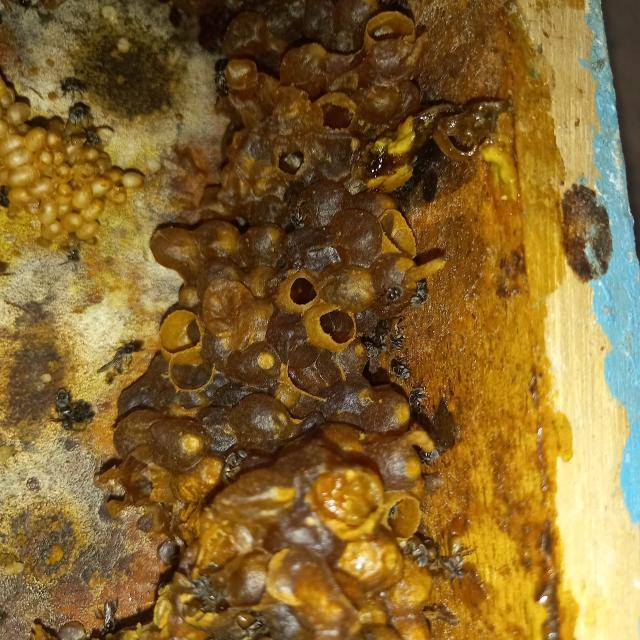honeybee: (40, 395, 96, 435), (100, 340, 140, 377), (188, 584, 228, 614), (55, 234, 81, 265), (66, 70, 94, 96), (208, 68, 235, 93), (414, 273, 432, 308), (62, 98, 86, 122), (0, 187, 17, 219), (84, 129, 106, 153), (366, 333, 383, 364), (420, 442, 437, 471), (394, 359, 411, 383), (385, 286, 401, 310), (413, 380, 422, 415)
